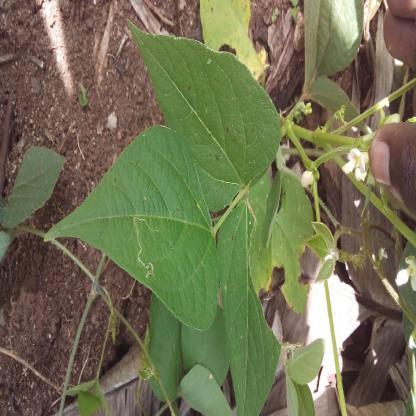Beans_Angular_LeafSpot: (141, 274, 265, 348), (368, 20, 416, 80)
